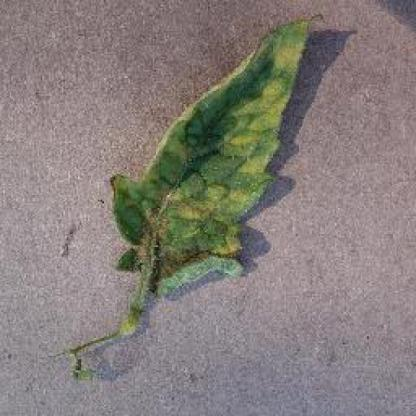Tomato_Leaf_Mold: (112, 12, 321, 285)
